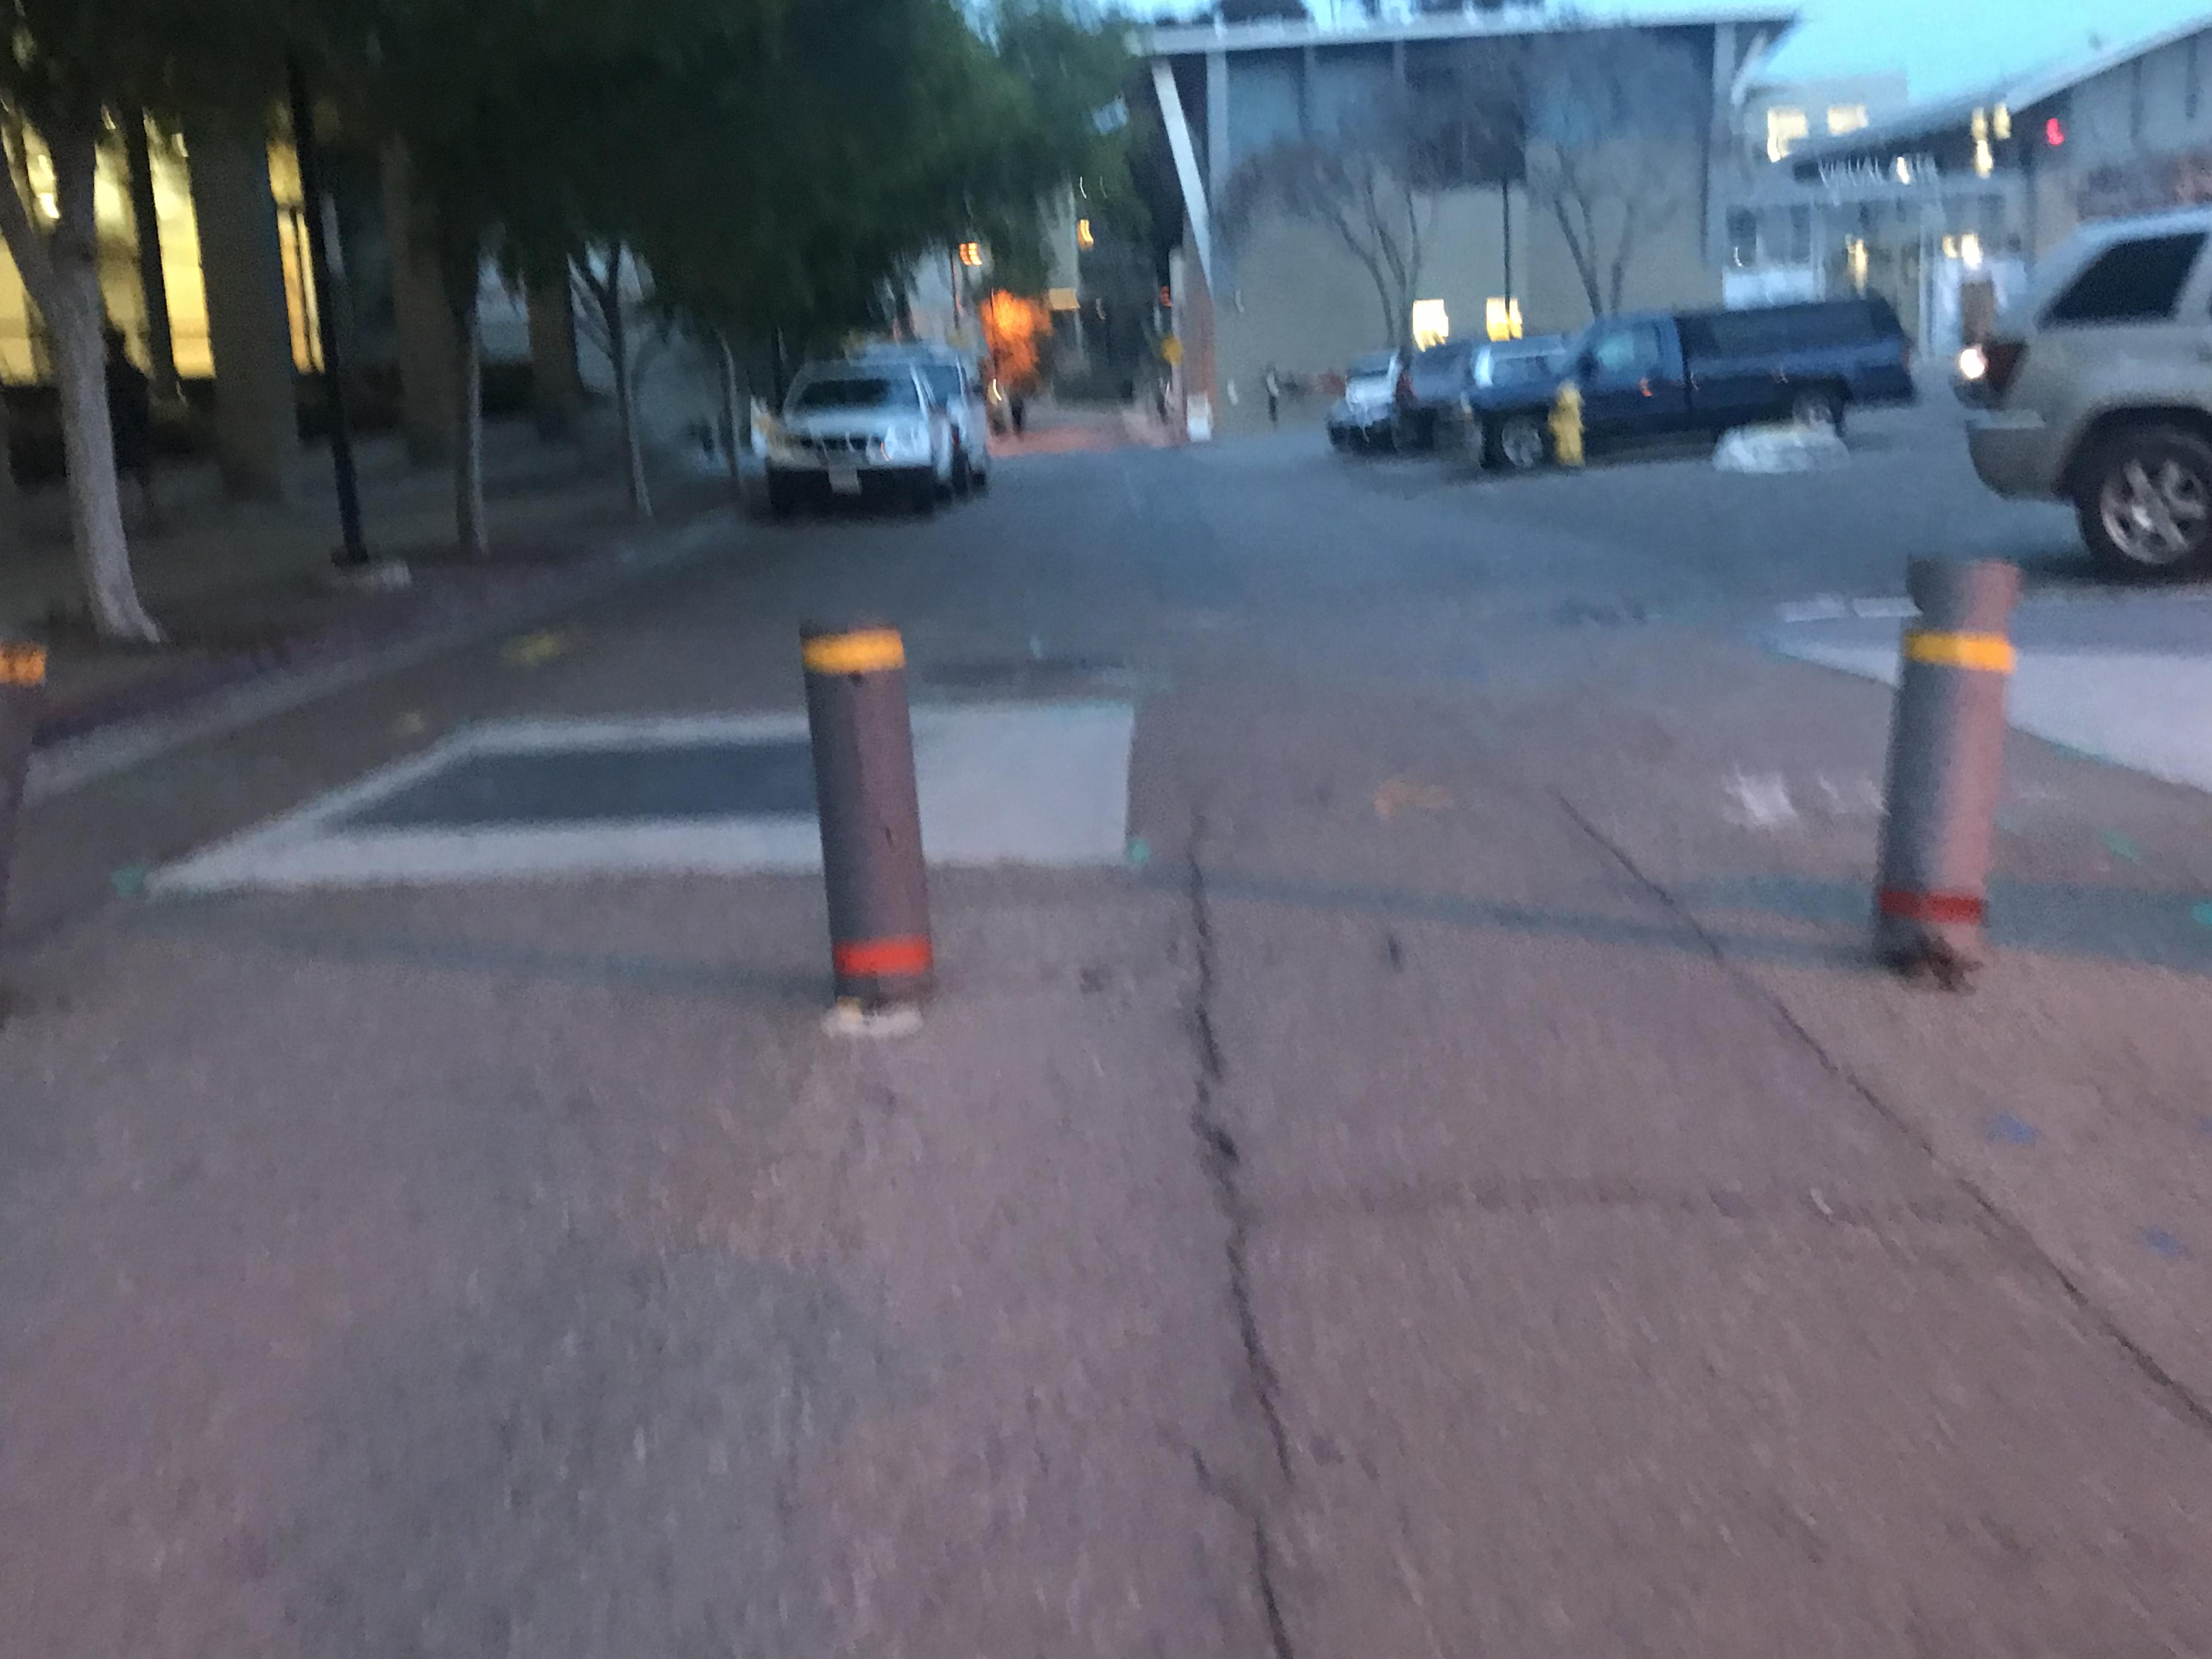Edge: (7, 497, 738, 819)
Obstacle: (1332, 301, 1916, 479), (1949, 227, 2205, 570), (1853, 551, 2048, 969), (792, 592, 928, 1044), (770, 354, 981, 519)
